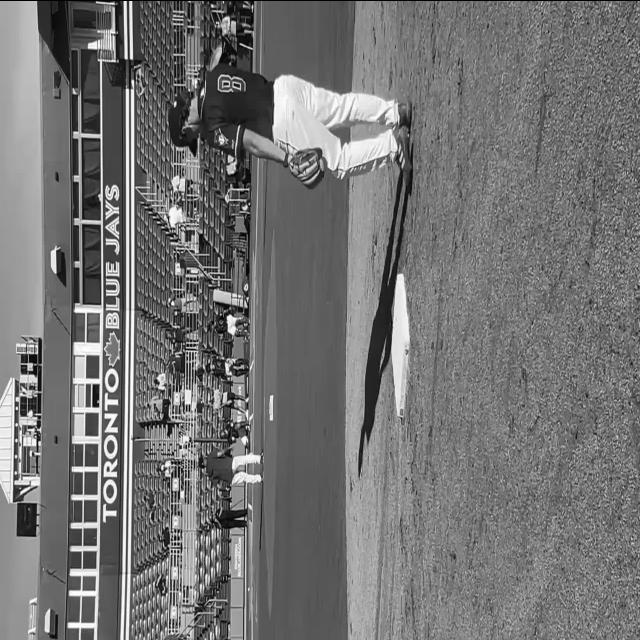base: (391, 273, 410, 416)
baseball_glove: (288, 147, 325, 189)
shoe: (394, 124, 412, 191), (398, 98, 412, 127)
